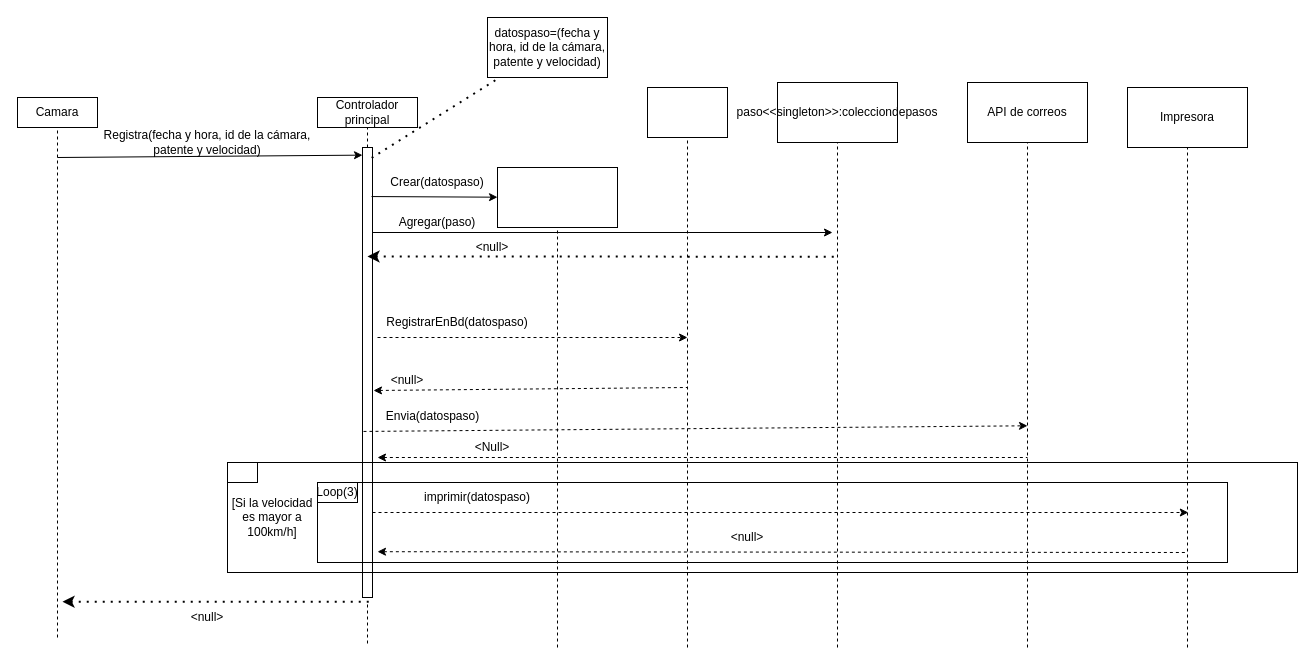
The diagram is 1315 pixels wide and 666 high, and some of its shapes have lost their labels. Here are the shapes that lost their labels. From the top down, the centre of each, then its label:
At point (687, 112): "API base de datos".
At point (557, 197): "Paso:paso".
At point (242, 472): "Alt".
